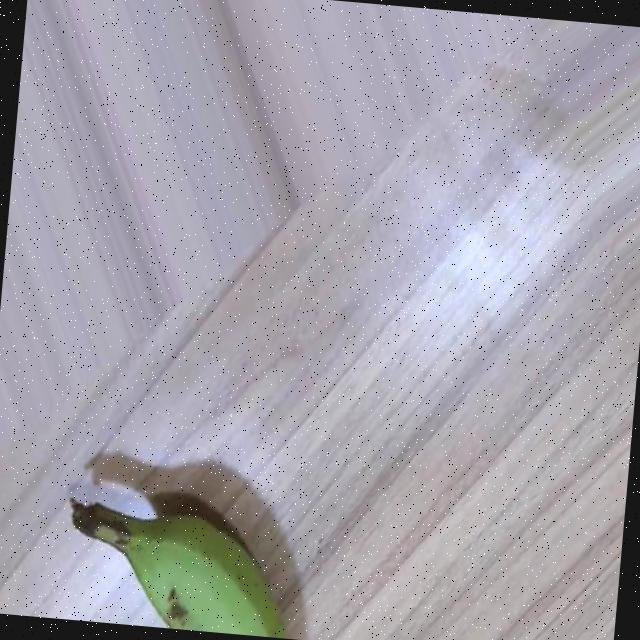Unripe: (59, 499, 297, 638)
